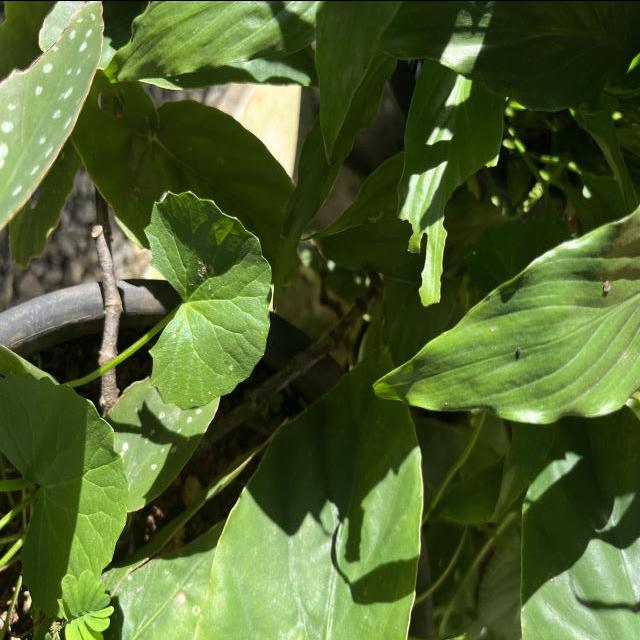Centella asiatica: (0, 366, 131, 620), (140, 186, 276, 412)
